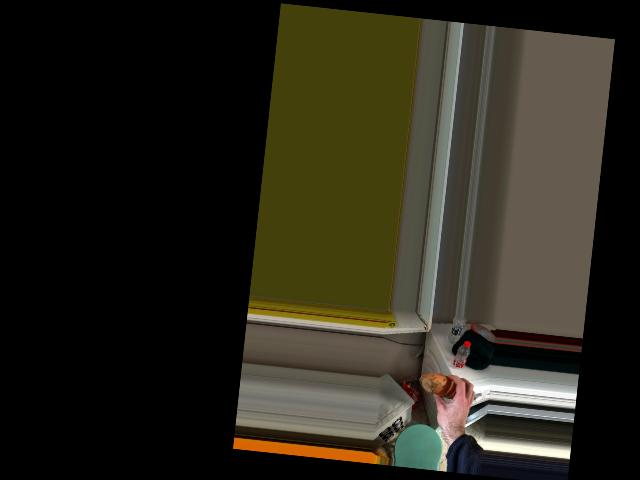sweet_potato: (426, 370, 461, 405)
